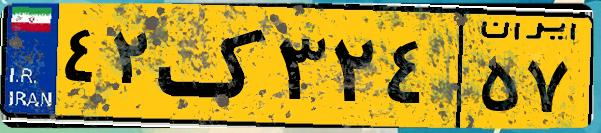2: (330, 28, 385, 110), (110, 28, 158, 98)
3: (270, 28, 330, 110)
4: (385, 28, 445, 110), (57, 26, 110, 100)
5: (475, 38, 525, 113)
7: (525, 38, 570, 115)
ک: (158, 12, 270, 120)
